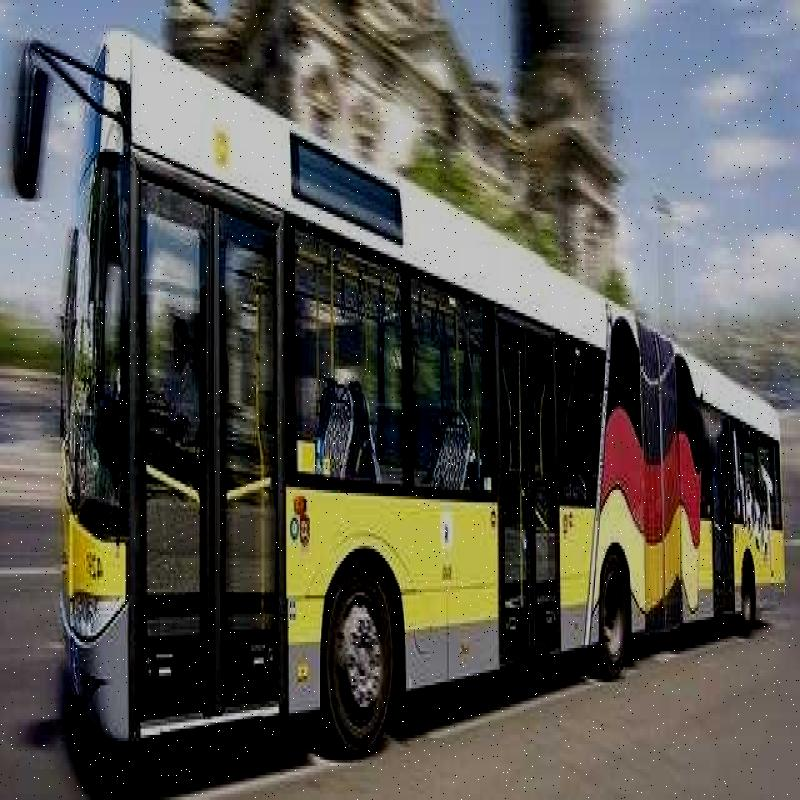bus: (15, 14, 787, 784)
